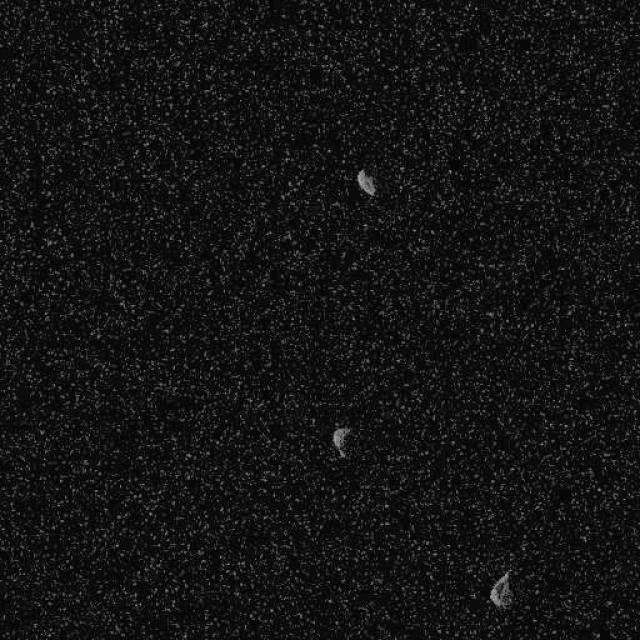D2: (488, 569, 514, 609), (355, 166, 377, 198), (331, 425, 351, 457)
